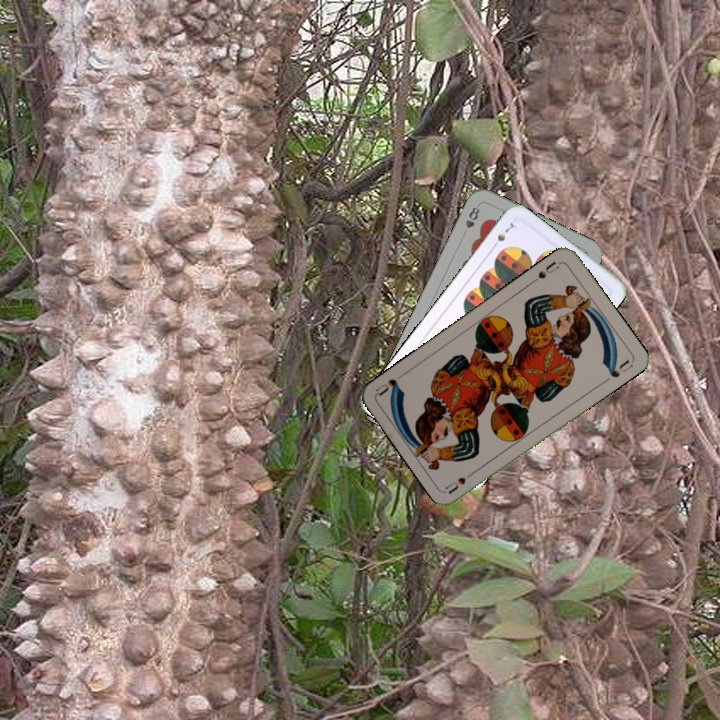H8: (459, 201, 482, 239)
S7: (488, 218, 517, 252)
SU: (442, 466, 480, 496), (528, 257, 563, 286)
